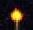torchT: (1, 0, 33, 30)
